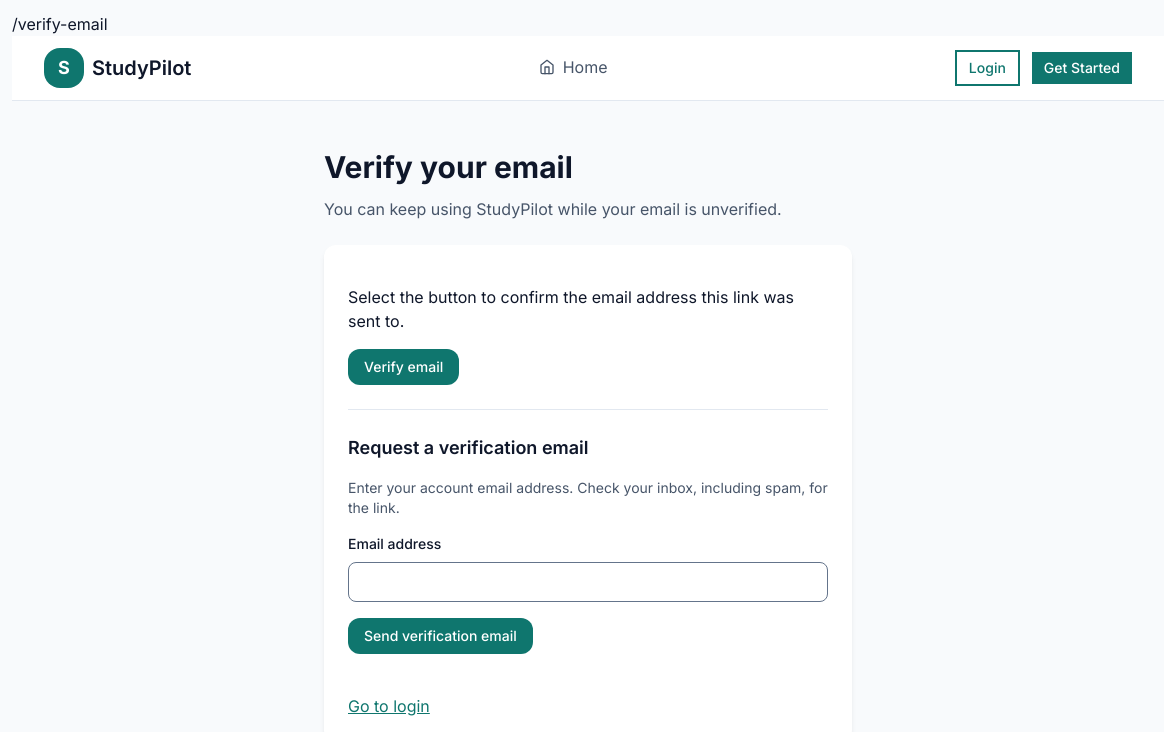
Test: VerifyEmailPage › offers resend for invalid links
This screenshot has width=1164, height=732.
Click the button "Verify email": (404, 367) [348,349,459,385]
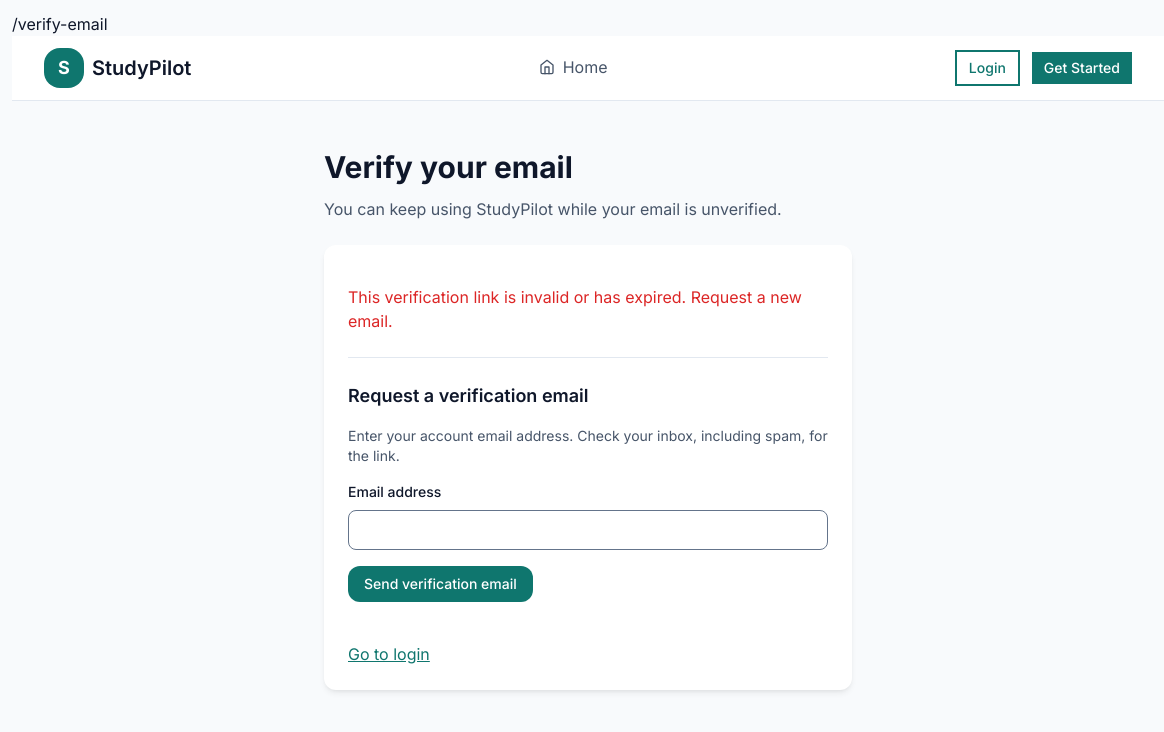
Expected: the field labelled "Email address" is enabled, [348,510,828,550]
Expected: the message shows "invalid or has expired", [348,287,802,331]
Expected: the button "Verify email" is gone
